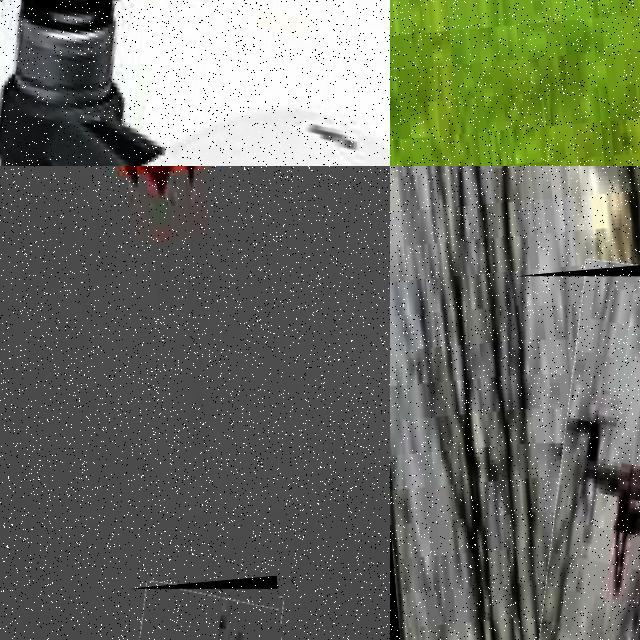0: (517, 248, 640, 640), (129, 575, 285, 640)
drone: (0, 0, 390, 166)
